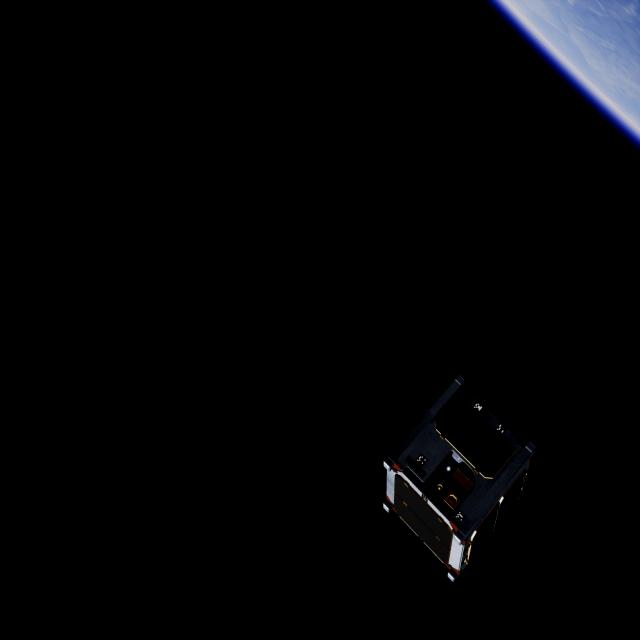medium_debris: (373, 378, 534, 588)
